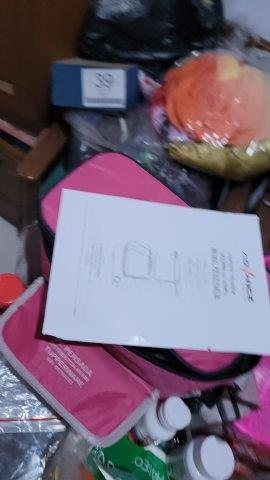kertas: (38, 187, 270, 357)
